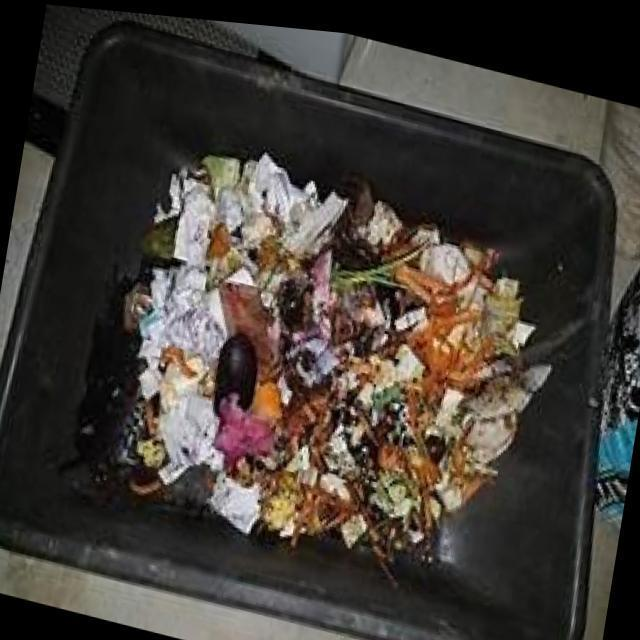Garbage: (72, 144, 552, 572)
